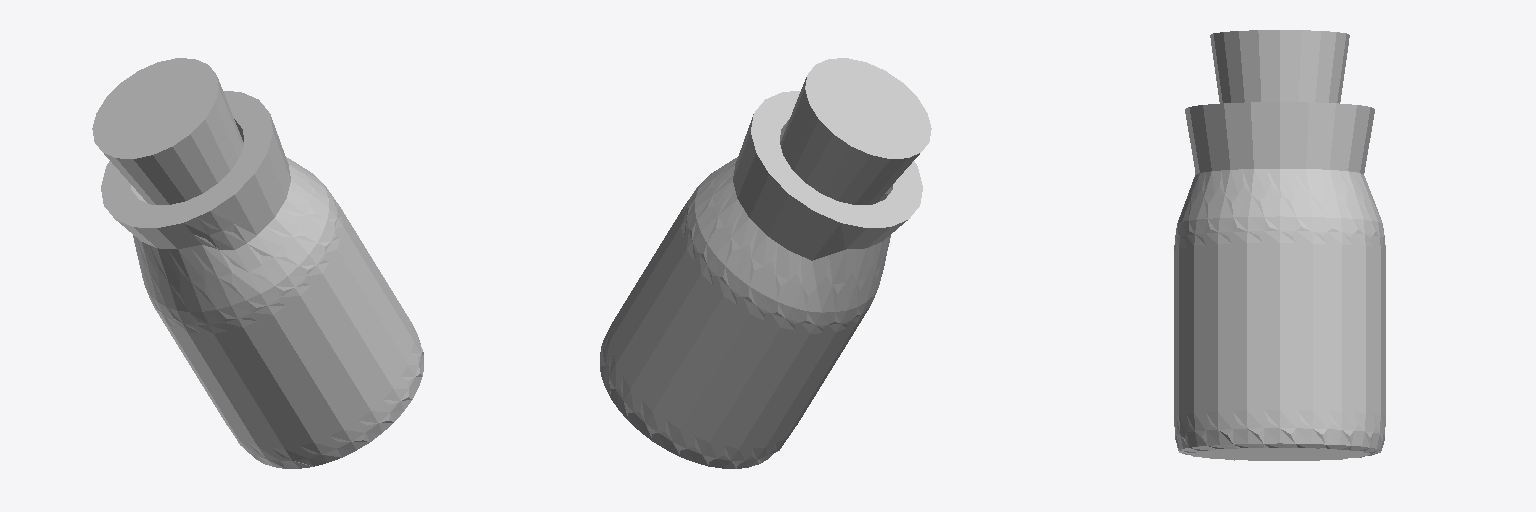
Rendered from potion.obj.
The picture shows the model from 3 angles: view 1: azimuth 30°, elevation 25°; view 2: azimuth 150°, elevation 25°; view 3: azimuth 270°, elevation 25°; orthographic projection.
Visible parts, largest first — view 1: polySurface47; view 2: polySurface47; view 3: polySurface47.
Part boxes in pixels (x1,y1,x2,y2): polySurface47: (92,58,423,468); polySurface47: (600,58,931,468); polySurface47: (1174,30,1385,460).
Bounding box in the file's own units: 2.09 × 2.64 × 1.25.